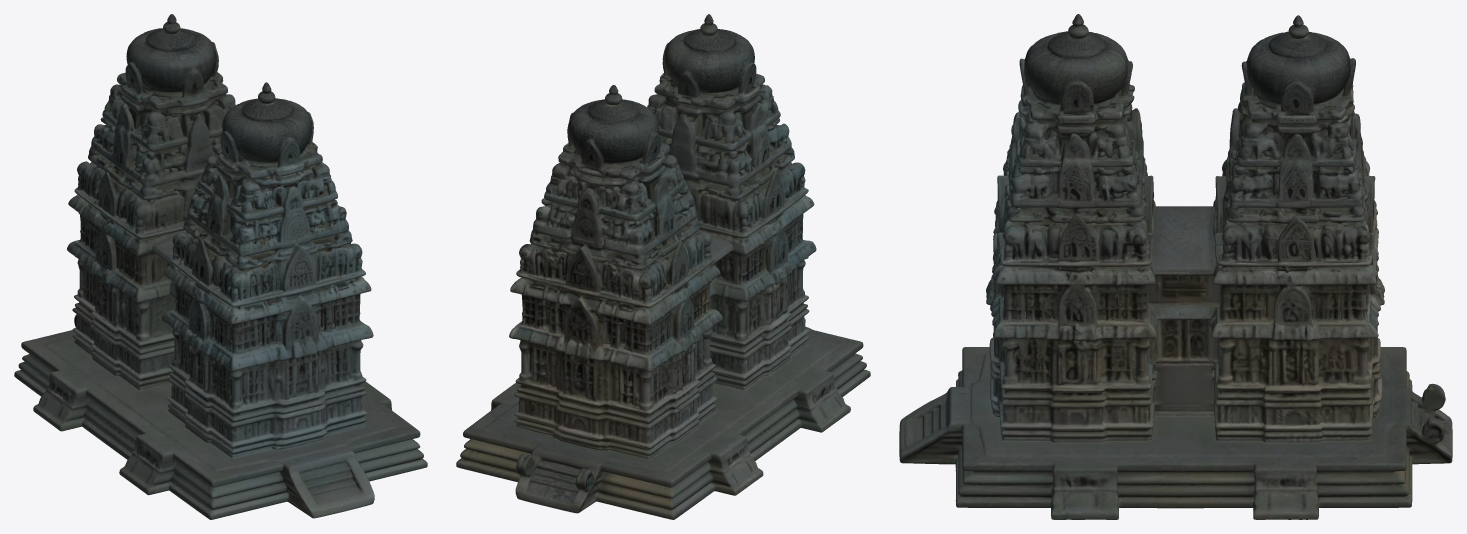
Rendered from hoysaleswara_temple.glb.
3 views of the same model, side by side, from view 1: azimuth 30°, elevation 25°; view 2: azimuth 150°, elevation 25°; view 3: azimuth 270°, elevation 25° (orthographic). The views are drawn at different scales.
Visible parts, largest first — view 1: tripo_node_31d85aa5-279b-4b62-94b9-ae7fd85dcb96; view 2: tripo_node_31d85aa5-279b-4b62-94b9-ae7fd85dcb96; view 3: tripo_node_31d85aa5-279b-4b62-94b9-ae7fd85dcb96.
Part boxes in pixels (x1,y1,x2,y2): tripo_node_31d85aa5-279b-4b62-94b9-ae7fd85dcb96: (14,14,427,519); tripo_node_31d85aa5-279b-4b62-94b9-ae7fd85dcb96: (456,14,870,519); tripo_node_31d85aa5-279b-4b62-94b9-ae7fd85dcb96: (899,14,1452,519).
Size of the model in its own units: 0.6306 by 0.8641 by 1.
Materials: 1 (1 with a texture image).
